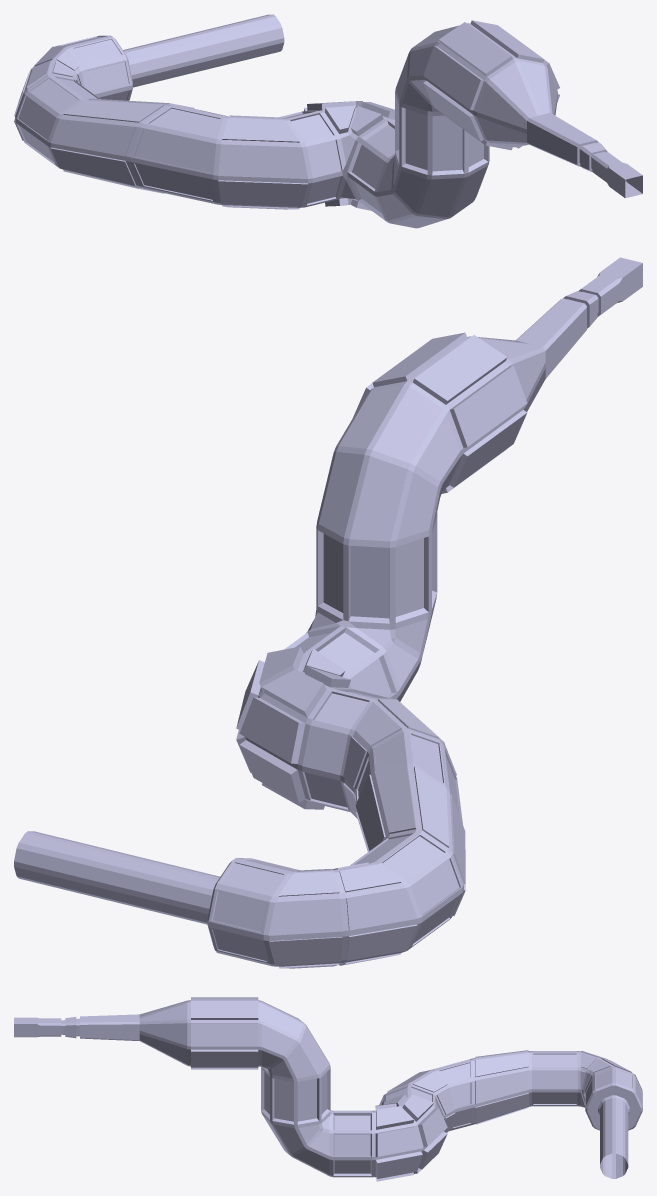
Rendered from Cooler-Detail.fbx.
3 renders of one model, top to bottom at view 1: azimuth 30°, elevation 25°; view 2: azimuth 150°, elevation 25°; view 3: azimuth 270°, elevation 25°, orthographic. The views are drawn at different scales.
Visible parts, largest first — view 1: 7-CoolerDetail; view 2: 7-CoolerDetail; view 3: 7-CoolerDetail.
Part boxes in pixels (x1,y1,x2,y2): 7-CoolerDetail: (14,14,642,228); 7-CoolerDetail: (14,257,642,968); 7-CoolerDetail: (14,997,642,1181).
Size of the model in its own units: 479 by 403 by 1274.
